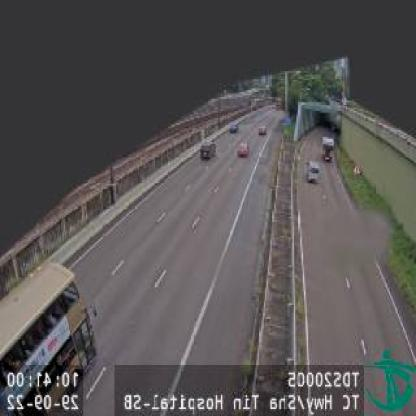Bus: (2, 255, 102, 414)
Car: (198, 140, 218, 162), (307, 156, 320, 187), (321, 135, 335, 160), (236, 142, 254, 156), (256, 123, 270, 135), (229, 123, 242, 132)
